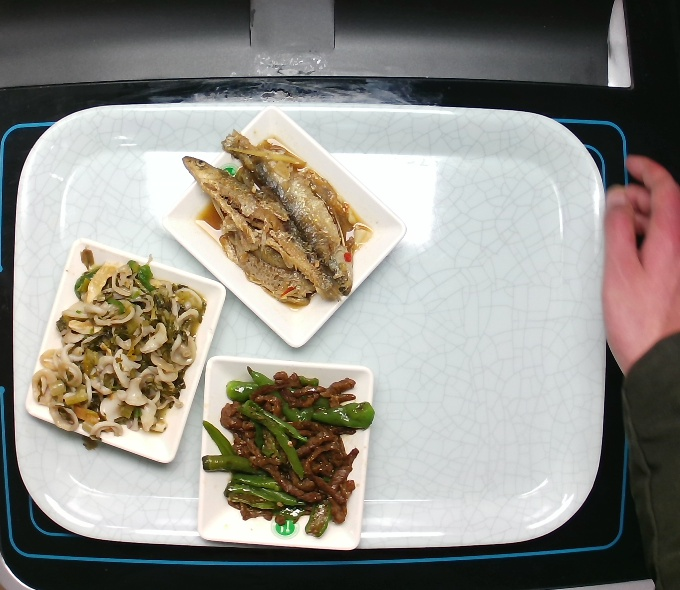wcq-QingJiaoNiuRou: (200, 365, 380, 536)
wcq-XiaoXiYu: (174, 131, 373, 307)
wcq-XueCaiYouYu: (26, 248, 209, 454)
